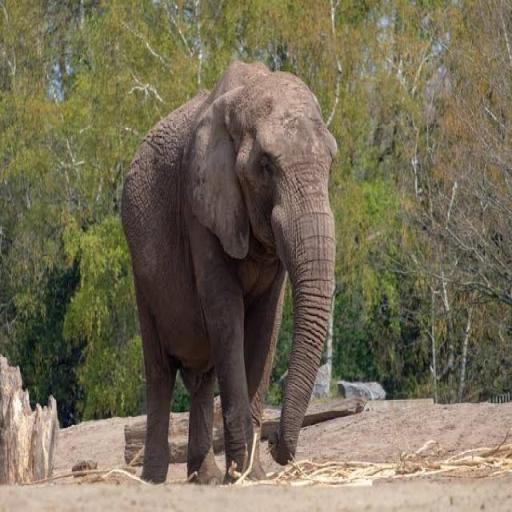Elephant: (120, 58, 338, 486)
